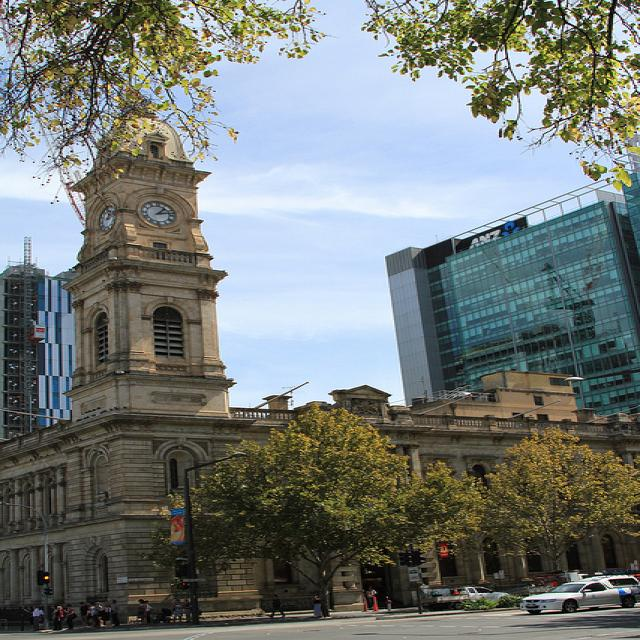Vehicle: (520, 581, 637, 614), (420, 586, 510, 612)
